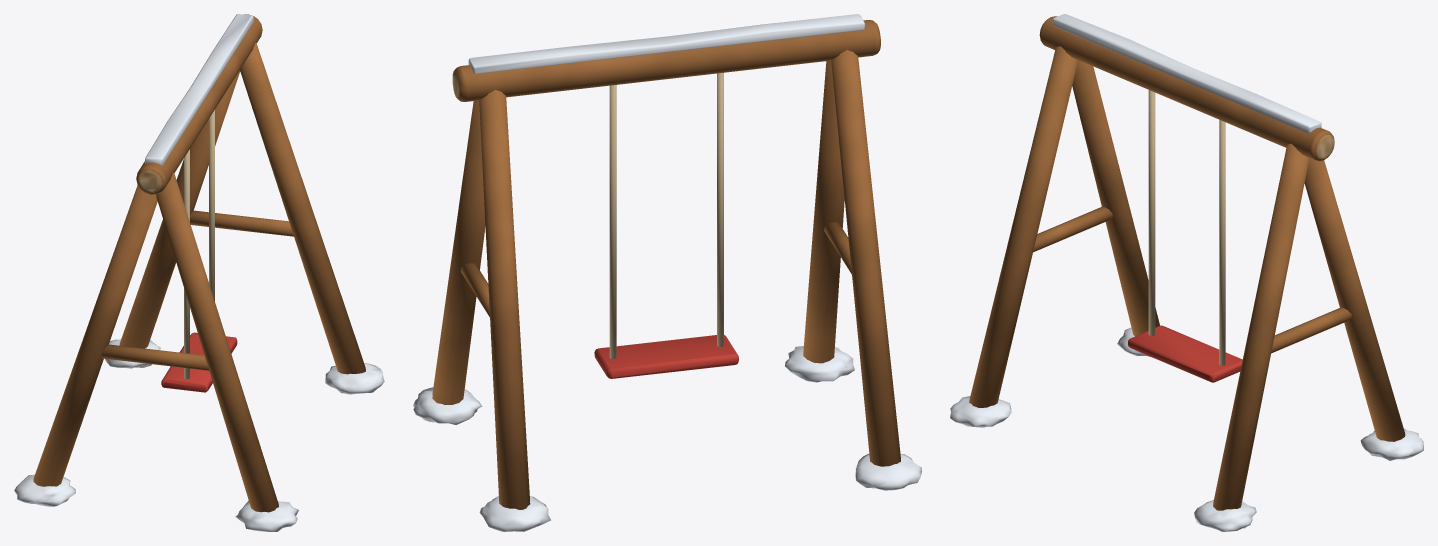
The model's file is kids_swing.glb.
The picture shows the model from 3 angles, left to right: view 1: azimuth 30°, elevation 25°; view 2: azimuth 150°, elevation 25°; view 3: azimuth 270°, elevation 25°; orthographic projection. The views are drawn at different scales.
Parts seen in each view (by area): view 1: beam; view 2: beam; view 3: beam.
Part boxes in pixels (x1,y1,x2,y2): beam: (14, 14, 384, 531); beam: (413, 14, 921, 531); beam: (950, 14, 1423, 531).
Size of the model in its own units: 2.49 by 2.13 by 2.47.
1 material, 1 textured.
